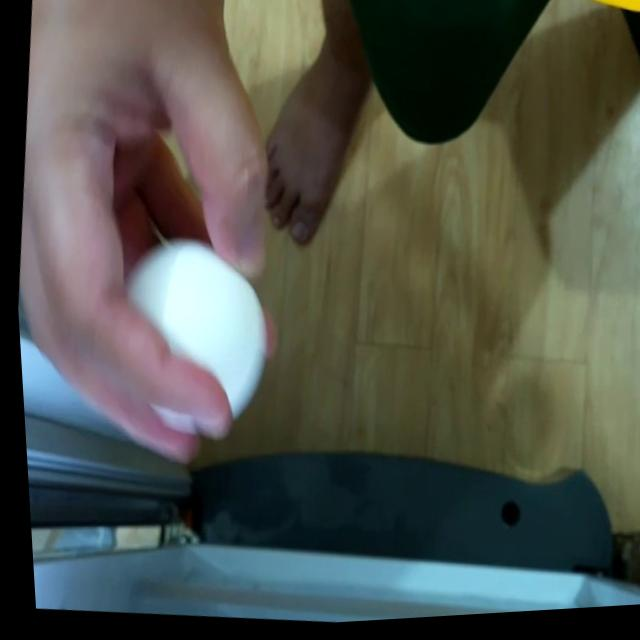egg: (93, 230, 278, 432)
